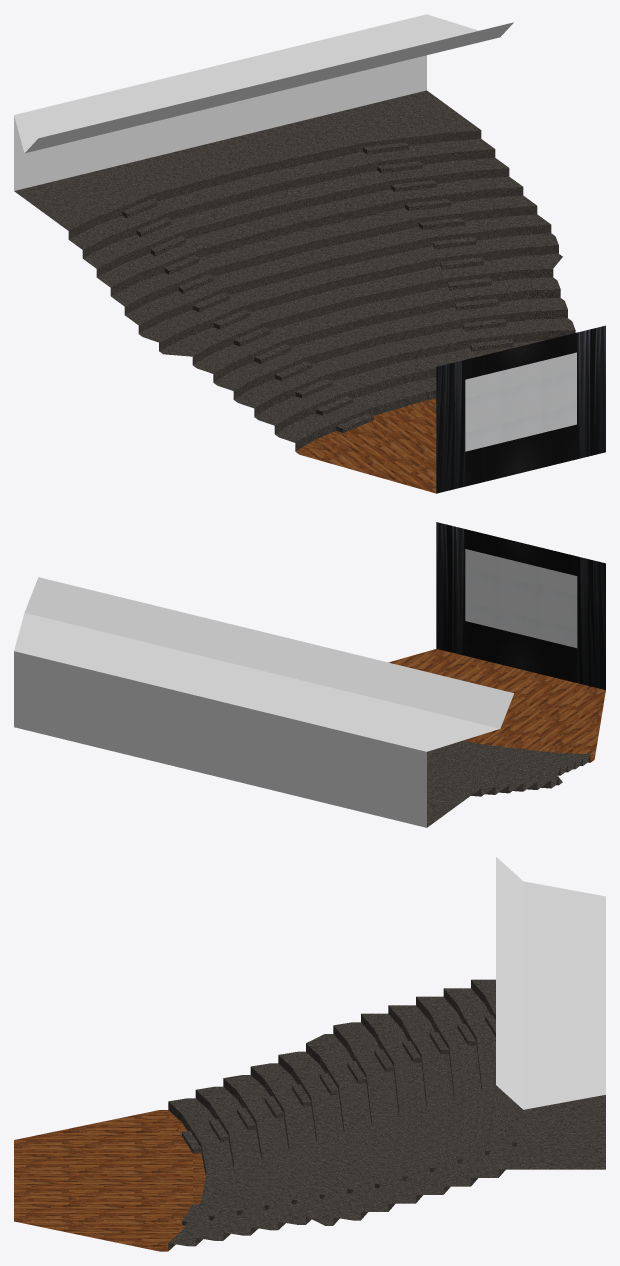
Rendered from Theatre.gltf.
The picture shows the model from 3 angles, top to bottom: view 1: azimuth 30°, elevation 25°; view 2: azimuth 150°, elevation 25°; view 3: azimuth 270°, elevation 25°; orthographic projection.
Visible parts, largest first — view 1: Plane; view 2: Plane; view 3: Plane.
Part boxes in pixels (x1,y1,x2,y2): Plane: [14, 14, 605, 493]; Plane: [14, 522, 605, 827]; Plane: [14, 857, 605, 1251].
Bounding box in the file's own units: 19.64 × 8.42 × 21.5.
Materials: 6 (5 with a texture image).
